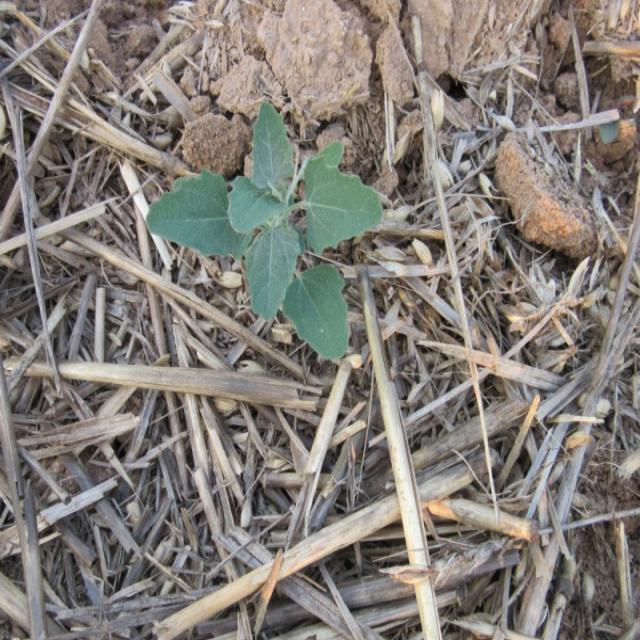ca: (146, 103, 381, 353)
